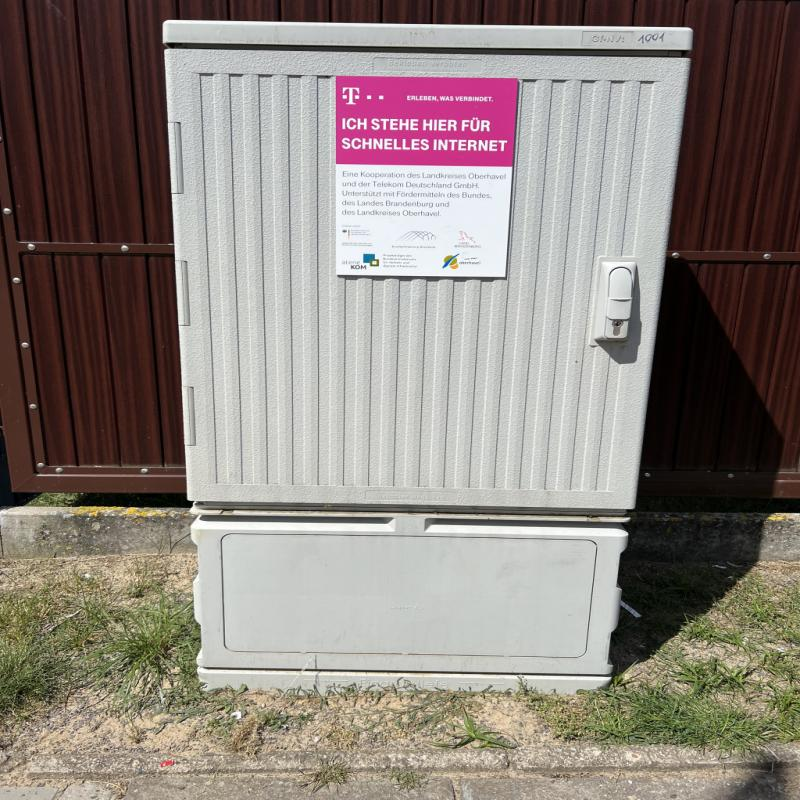NT-Gehause: (163, 21, 693, 674)
Steaker: (338, 80, 520, 280)
